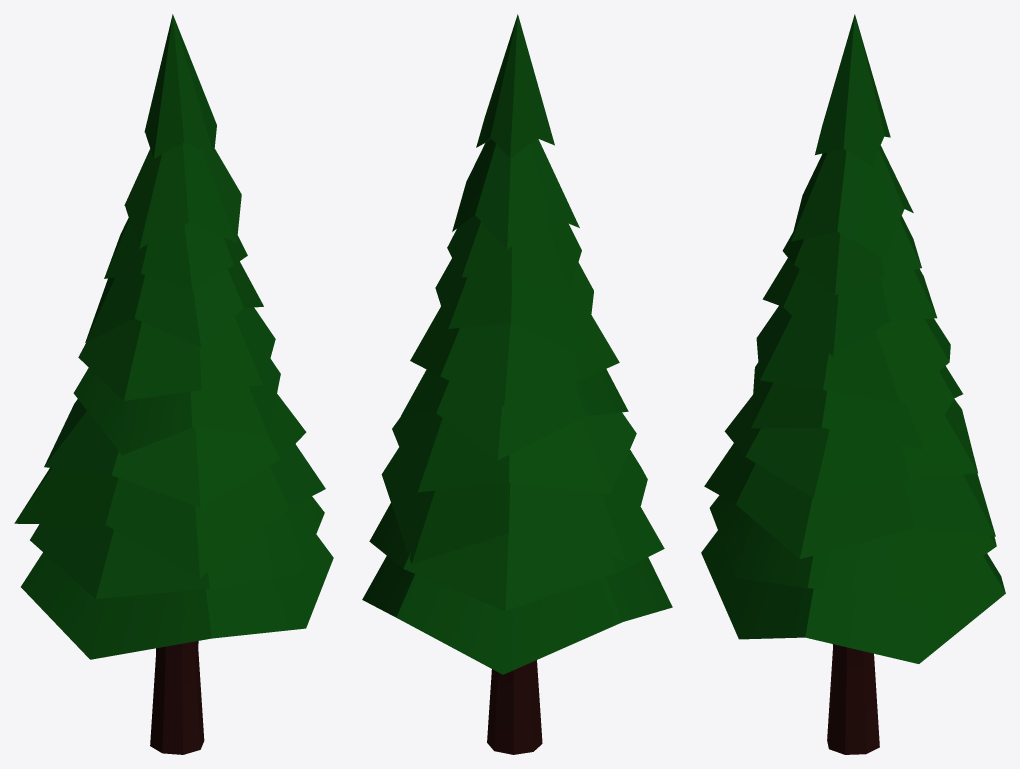
The model's file is pino.obj.
The picture shows the model from 3 angles, left to right: view 1: azimuth 30°, elevation 25°; view 2: azimuth 150°, elevation 25°; view 3: azimuth 270°, elevation 25°; orthographic projection.
Parts seen in each view (by area): view 1: Tronco; view 2: Tronco; view 3: Tronco.
Boxes of the visible parts, <box> form: Tronco: <box>14,14,333,754</box>; Tronco: <box>362,14,672,754</box>; Tronco: <box>701,14,1005,754</box>.
Bounding box in the file's own units: 12.24 × 31.65 × 12.02.
